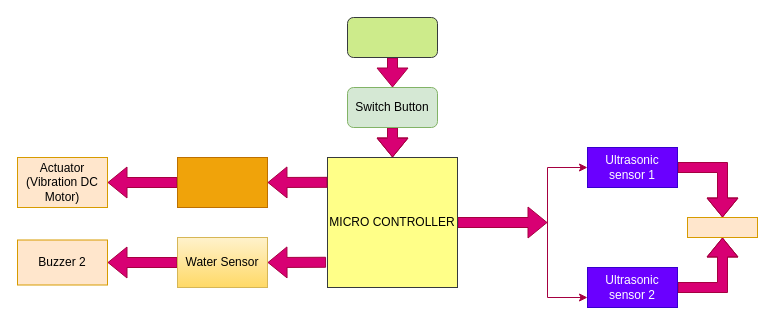
This 775x325 diagram has some shape labels left out. The centre of each missing label's shape, as x and y in pixels:
"Buzzer 1" belongs at pixel 722 227.
"LDR sensor" belongs at pixel 222 182.
"Power Supply" belongs at pixel 392 37.
